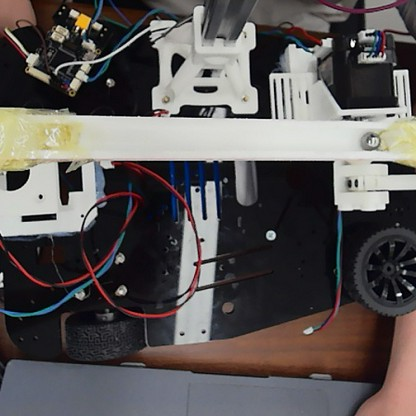ironball: (360, 130, 379, 149)
